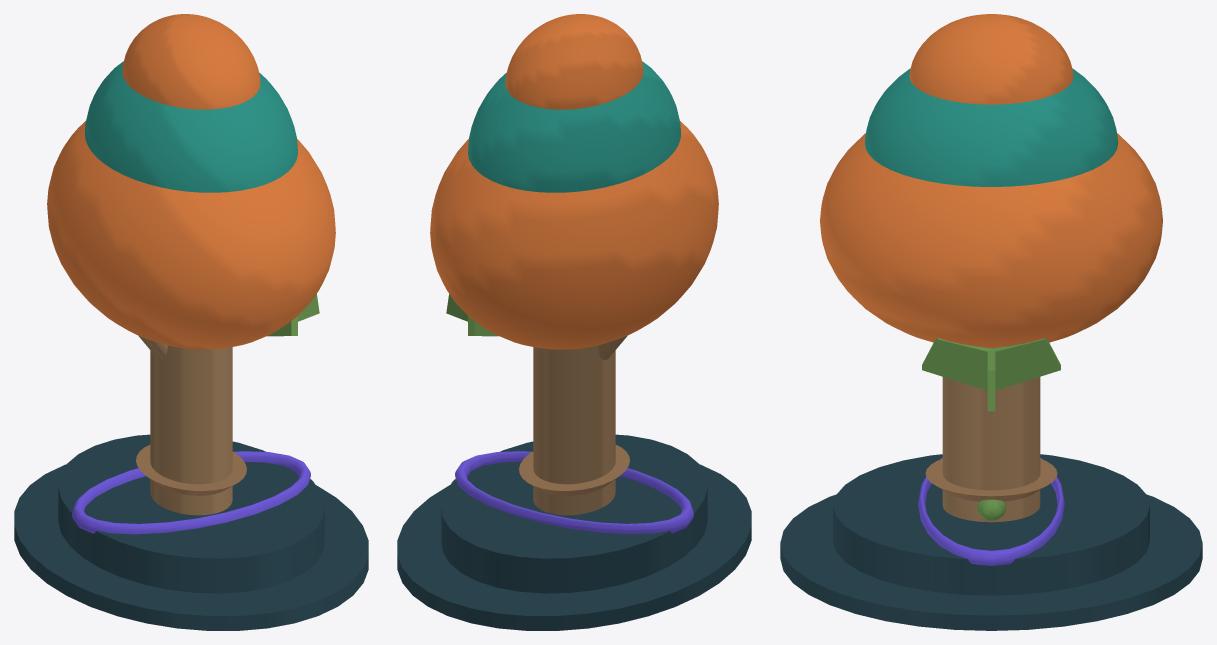
File: 0094_植物图鉴_木棉.glb
3 renders of one model, left to right at view 1: azimuth 30°, elevation 25°; view 2: azimuth 150°, elevation 25°; view 3: azimuth 270°, elevation 25°, orthographic. The views are drawn at different scales.
Visible parts, largest first — view 1: card_0094; view 2: card_0094; view 3: card_0094.
Part boxes in pixels (x1,y1,x2,y2): card_0094: (14, 14, 368, 630); card_0094: (397, 14, 751, 630); card_0094: (780, 14, 1202, 630).
Size of the model in its own units: 0.5771 by 1 by 0.7112.
